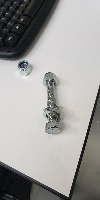FinishedAssembly: (40, 69, 67, 136)
Nut: (15, 56, 36, 79)
